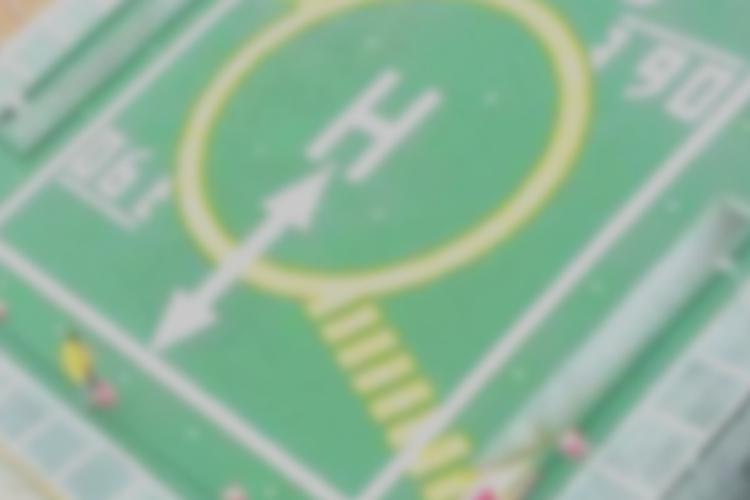Apron: (171, 12, 574, 256)
